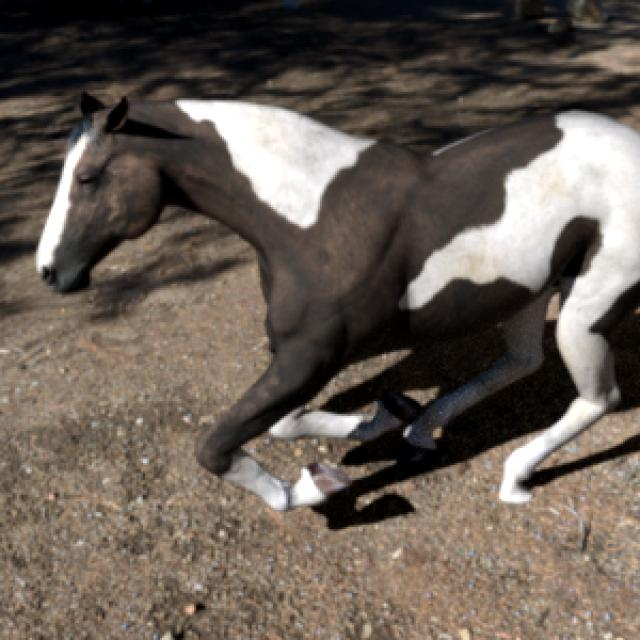horse: (38, 97, 640, 509)
